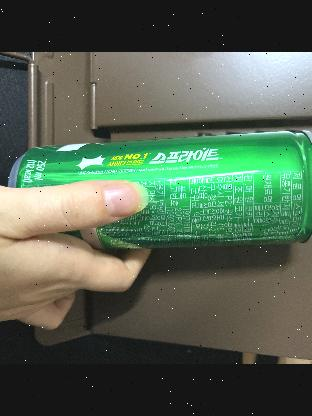Can: (21, 128, 312, 251)
